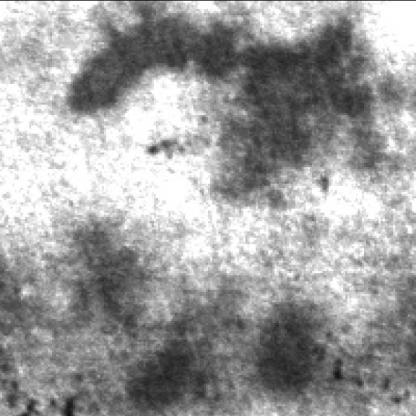patches: (60, 6, 416, 123), (214, 61, 350, 196), (64, 206, 152, 337), (247, 300, 337, 400), (123, 326, 220, 412)
